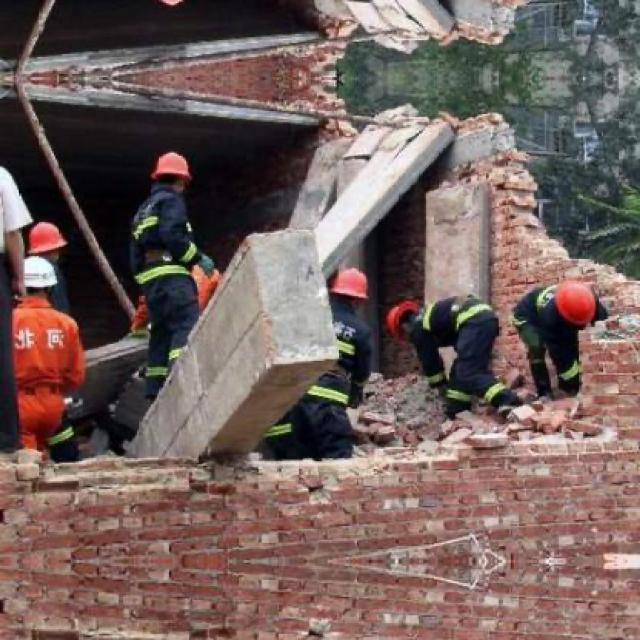helmet: (552, 279, 597, 326), (17, 256, 57, 296), (26, 222, 69, 259), (152, 152, 191, 192), (332, 267, 370, 308), (388, 302, 424, 342)
